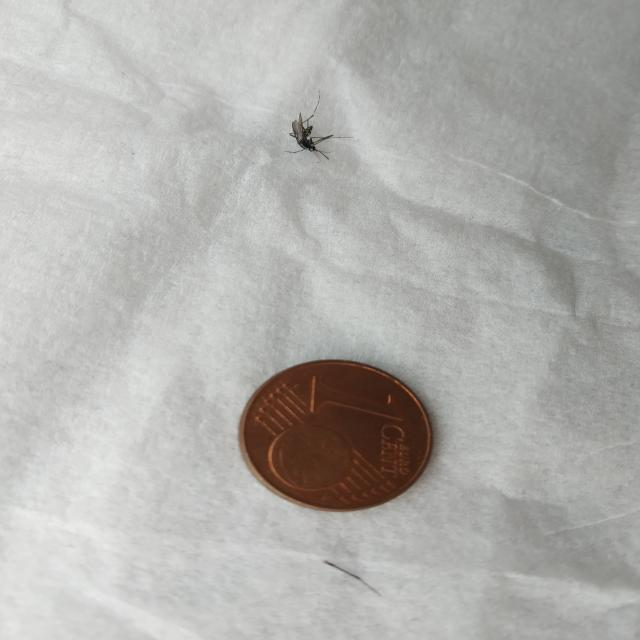albopictus: (274, 86, 356, 166)
